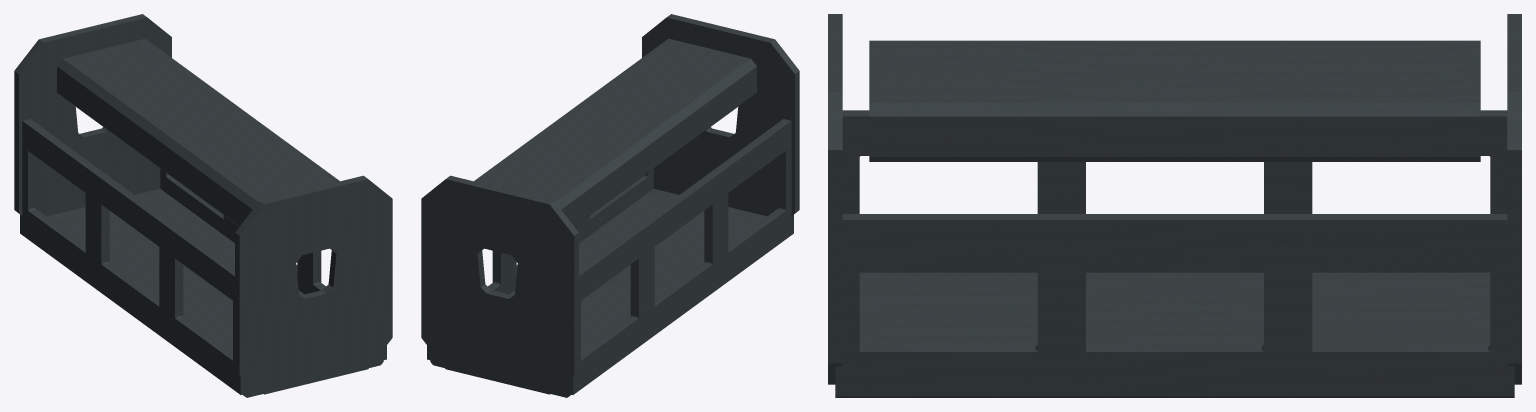
Rendered from ak_vent.glb.
3 renders of one model, left to right at view 1: azimuth 30°, elevation 25°; view 2: azimuth 150°, elevation 25°; view 3: azimuth 270°, elevation 25°, orthographic. The views are drawn at different scales.
Visible parts, largest first — view 1: ak_vent_vent_wall, ak_vent_vent_wall.006; view 2: ak_vent_vent_wall, ak_vent_vent_wall.006; view 3: ak_vent_vent_wall, ak_vent_vent_wall.006.
Boxes of the visible parts, x1,y1,x2,y2 form: ak_vent_vent_wall: [14, 14, 392, 397]; ak_vent_vent_wall.006: [20, 119, 386, 394]; ak_vent_vent_wall: [421, 14, 799, 397]; ak_vent_vent_wall.006: [427, 119, 793, 394]; ak_vent_vent_wall: [828, 14, 1521, 397]; ak_vent_vent_wall.006: [835, 110, 1514, 395].
Size of the model in its own units: 0.112 by 0.134 by 0.286.
Materials: 1 (1 with a texture image).
